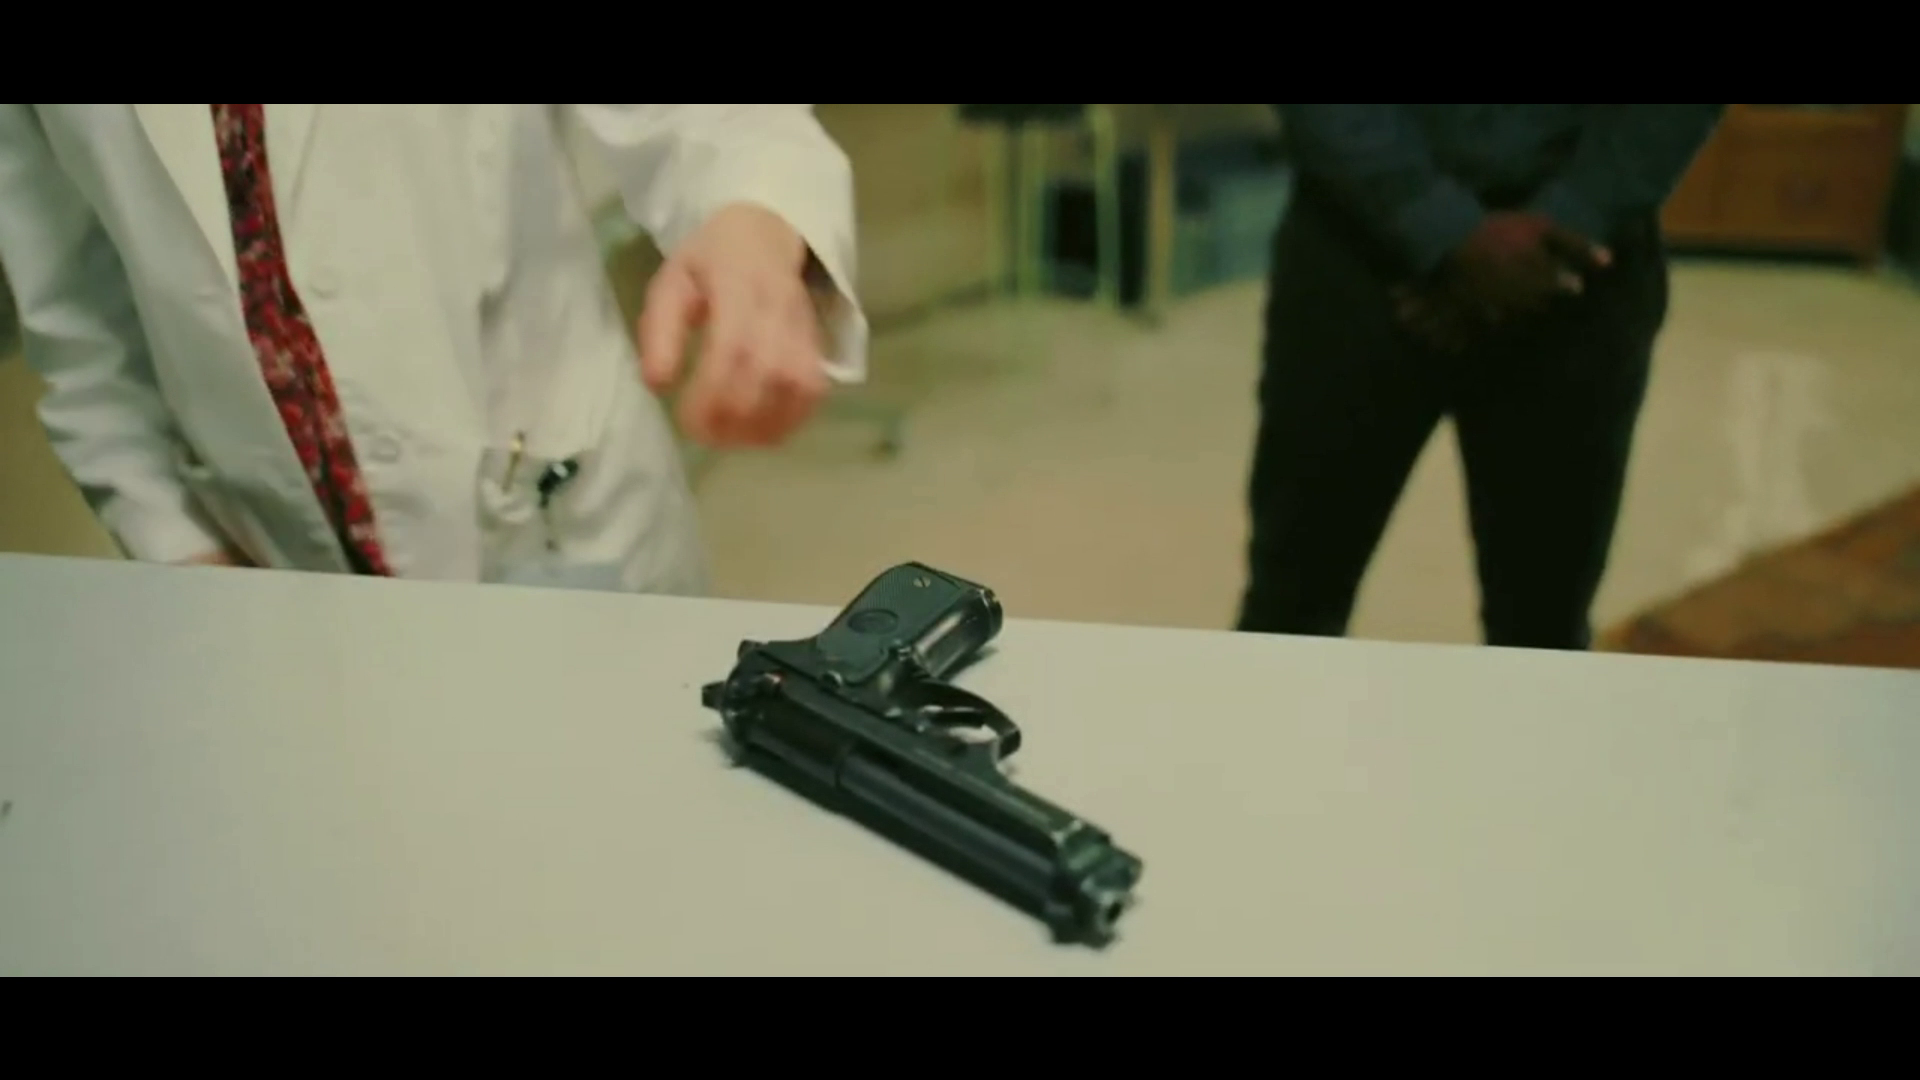SIG P226: (705, 567, 1145, 945)
